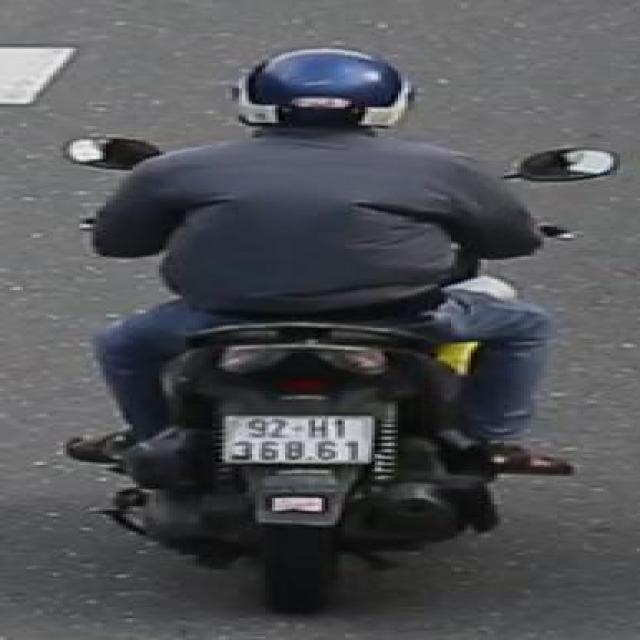LP: (217, 408, 380, 468)
helmet: (231, 41, 416, 142)
